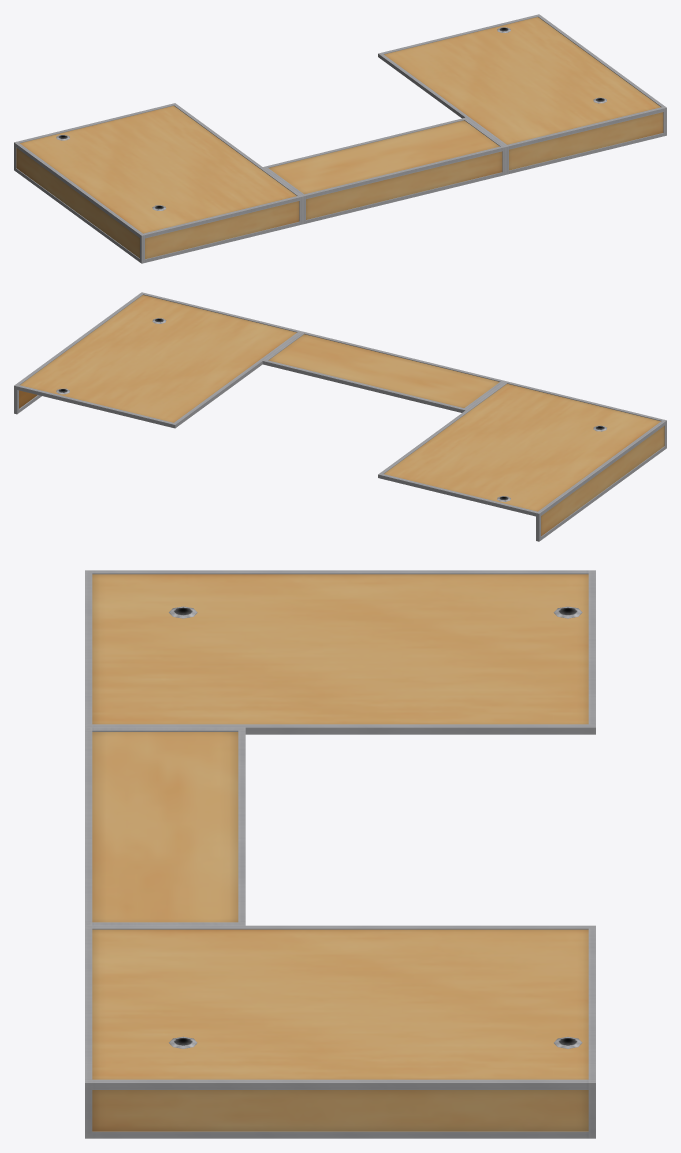
Rendered from jsf_4P_s02_c05_t02_DX.fbx.
3 renders of one model, top to bottom at view 1: azimuth 30°, elevation 25°; view 2: azimuth 150°, elevation 25°; view 3: azimuth 270°, elevation 25°, orthographic. The views are drawn at different scales.
Parts seen in each view (by area): view 1: jsf_4P_s02_c05_t02_DX; view 2: jsf_4P_s02_c05_t02_DX; view 3: jsf_4P_s02_c05_t02_DX.
Part boxes in pixels (<box>): jsf_4P_s02_c05_t02_DX: <box>14,14,666,263</box>; jsf_4P_s02_c05_t02_DX: <box>14,292,666,541</box>; jsf_4P_s02_c05_t02_DX: <box>85,570,595,1138</box>.
Size of the model in its own units: 246 by 12.99 by 104.
